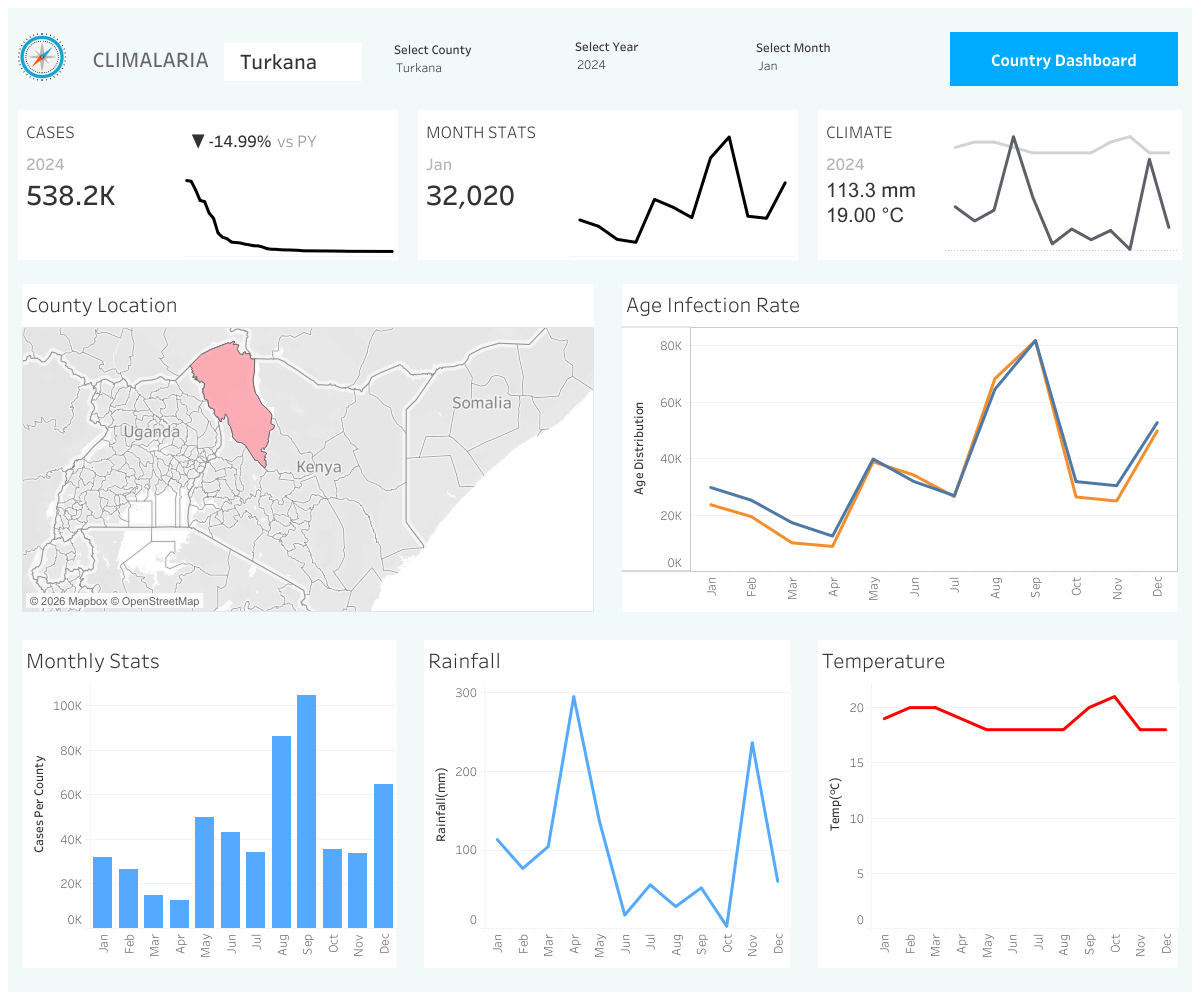

This screenshot's page, from the dashboard's own definition file:
{"tool":"tableau","page":{"name":"County Dashboard","canvas":[1200,1000],"ordinal":1},"visuals":[{"type":"blank","box":[8,8,1184,20]},{"type":"image","param":"Image/Icon - Logo.png","box":[8,28,68,62]},{"type":"text","box":[86,28,135,62]},{"type":"worksheet","title":"County","mark":"Automatic","box":[221,28,725,62]},{"type":"dashboard-object","box":[945.9,28,236.1,62]},{"type":"parameter","param":"[Parameters].[Parameter 1]","box":[575,36,160,44]},{"type":"parameter","param":"[Parameters].[Parameter 3]","box":[756,37,160,44]},{"type":"parameter","param":"[Parameters].[Parameter 2]","box":[394,39,160,44]},{"type":"blank","box":[8,90,1184,20]},{"type":"blank","box":[8,110,10,150]},{"type":"worksheet","title":"County KPI","mark":"Automatic","box":[18,110,162,105]},{"type":"worksheet","title":"%Change","mark":"Automatic","box":[180,110,218,46]},{"type":"blank","box":[398,110,20,150]},{"type":"worksheet","title":"County Month KPI","mark":"Text","box":[418,110,148,150]},{"type":"worksheet","title":"Selected County Month Trend","mark":"Line","rows":["Calculation_661184770745860116"],"cols":["Month"],"box":[566,110,232,150]},{"type":"blank","box":[798,110,20,150]},{"type":"worksheet","title":"County Climate KPI","mark":"Automatic","box":[818,110,123,150]},{"type":"worksheet","title":"County Climate","mark":"Line","rows":["Calculation_661184770767589403","Calculation_661184770767368218"],"cols":["Month"],"box":[941,110,240.9,150]},{"type":"blank","box":[1182,110,10,150]},{"type":"worksheet","title":"County Trend","mark":"Line","rows":["Calculation_661184770404614145"],"cols":["County"],"box":[180,156,218,104]},{"type":"blank","box":[8,260,1184,20]},{"type":"blank","box":[8,280,10,336]},{"type":"worksheet","title":"Selected County","mark":"Multipolygon","box":[18,280,580,336]},{"type":"blank","box":[598,280,20,336]},{"type":"worksheet","title":"Age Distro","mark":"Line","rows":["Calculation_661184770771288093","Calculation_661184770771132444"],"cols":["Month"],"box":[618,280,563.9,336]},{"type":"blank","box":[1182,280,10,336]},{"type":"blank","box":[8,616,1184,20]},{"type":"blank","box":[8,636,10,336]},{"type":"worksheet","title":"County Month Stats","mark":"Automatic","rows":["Calculation_661184770745860116"],"cols":["Month"],"box":[18,636,381.6,336]},{"type":"blank","box":[399.7,636,20,336]},{"type":"worksheet","title":"County Rainfall","mark":"Line","rows":["Calculation_661184770767368218"],"cols":["Month"],"box":[419.7,636,374.7,336]},{"type":"blank","box":[794.3,636,20,336]},{"type":"worksheet","title":"County Temp","mark":"Line","rows":["Calculation_661184770767589403"],"cols":["Month"],"box":[814.3,636,367.6,336]},{"type":"blank","box":[1182,636,10,336]},{"type":"blank","box":[8,972,1184,20]}]}

Visuals, with their boxes in screenshot pixels (x1, y1, x2, y2), scaled from the page's 1200x1000 canvas onto the 1199x999 screenshot:
blank: <bbox>8, 8, 1191, 28</bbox>
image: <bbox>8, 28, 76, 90</bbox>
text: <bbox>86, 28, 221, 90</bbox>
"County" worksheet: <bbox>221, 28, 945, 90</bbox>
dashboard-object: <bbox>945, 28, 1181, 90</bbox>
parameter: <bbox>575, 36, 734, 80</bbox>
parameter: <bbox>755, 37, 915, 81</bbox>
parameter: <bbox>394, 39, 554, 83</bbox>
blank: <bbox>8, 90, 1191, 110</bbox>
blank: <bbox>8, 110, 18, 260</bbox>
"County KPI" worksheet: <bbox>18, 110, 180, 215</bbox>
"%Change" worksheet: <bbox>180, 110, 398, 156</bbox>
blank: <bbox>398, 110, 418, 260</bbox>
"County Month KPI" worksheet (Text marks): <bbox>418, 110, 566, 260</bbox>
"Selected County Month Trend" worksheet (Line marks): <bbox>566, 110, 797, 260</bbox>
blank: <bbox>797, 110, 817, 260</bbox>
"County Climate KPI" worksheet: <bbox>817, 110, 940, 260</bbox>
"County Climate" worksheet (Line marks): <bbox>940, 110, 1181, 260</bbox>
blank: <bbox>1181, 110, 1191, 260</bbox>
"County Trend" worksheet (Line marks): <bbox>180, 156, 398, 260</bbox>
blank: <bbox>8, 260, 1191, 280</bbox>
blank: <bbox>8, 280, 18, 615</bbox>
"Selected County" worksheet (Multipolygon marks): <bbox>18, 280, 598, 615</bbox>
blank: <bbox>598, 280, 617, 615</bbox>
"Age Distro" worksheet (Line marks): <bbox>617, 280, 1181, 615</bbox>
blank: <bbox>1181, 280, 1191, 615</bbox>
blank: <bbox>8, 615, 1191, 635</bbox>
blank: <bbox>8, 635, 18, 971</bbox>
"County Month Stats" worksheet: <bbox>18, 635, 399, 971</bbox>
blank: <bbox>399, 635, 419, 971</bbox>
"County Rainfall" worksheet (Line marks): <bbox>419, 635, 794, 971</bbox>
blank: <bbox>794, 635, 814, 971</bbox>
"County Temp" worksheet (Line marks): <bbox>814, 635, 1181, 971</bbox>
blank: <bbox>1181, 635, 1191, 971</bbox>
blank: <bbox>8, 971, 1191, 991</bbox>
